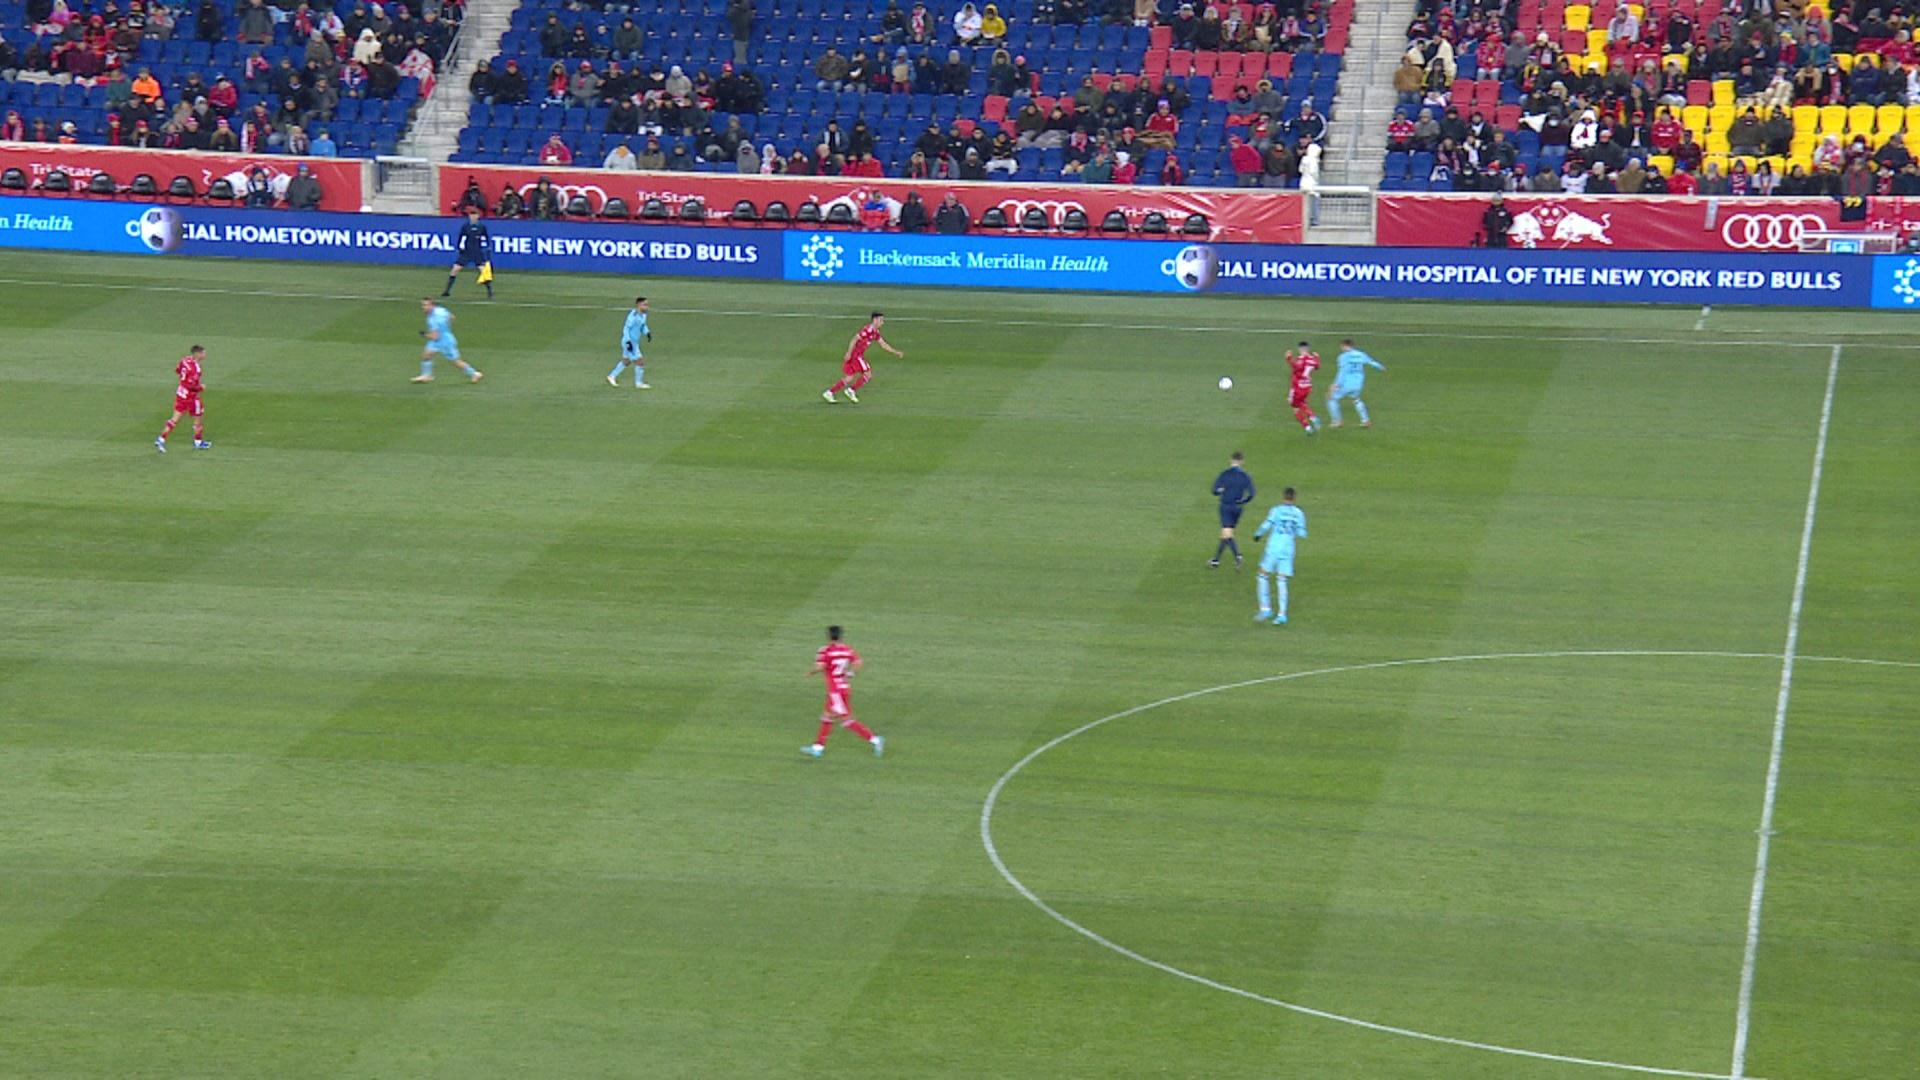football: (1218, 376, 1233, 392)
